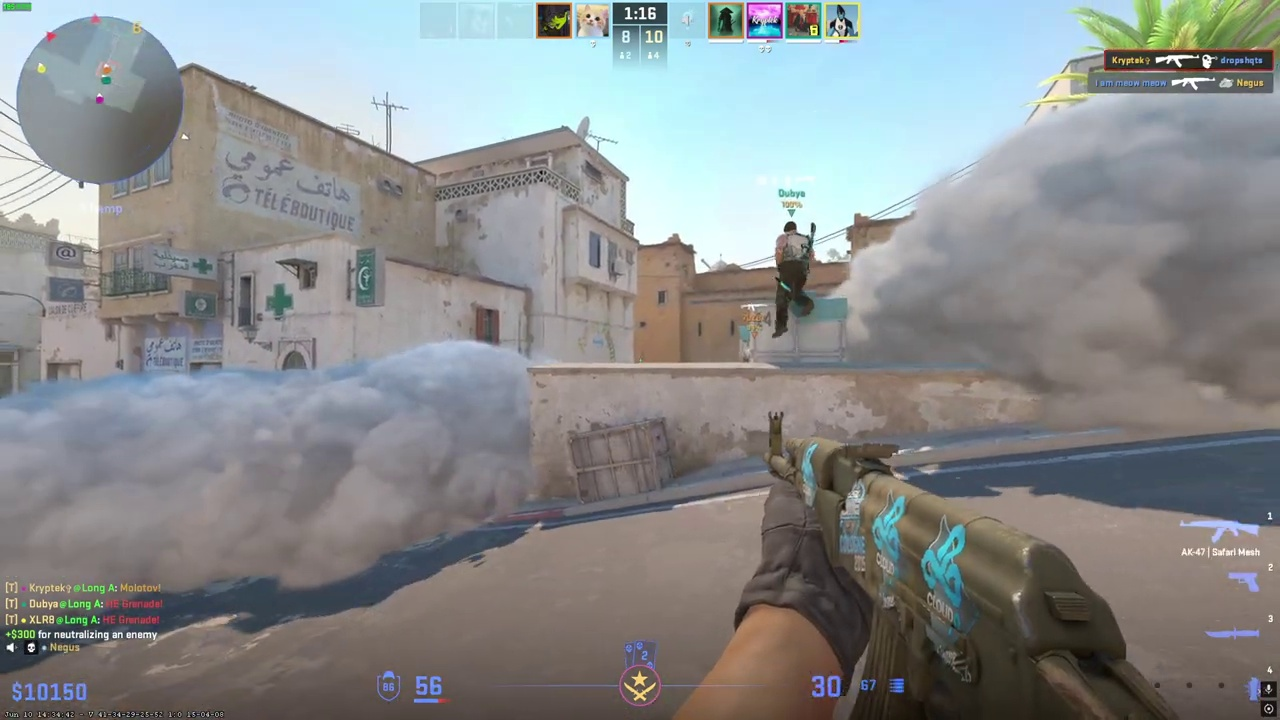Terrorist: (772, 221, 814, 335)
